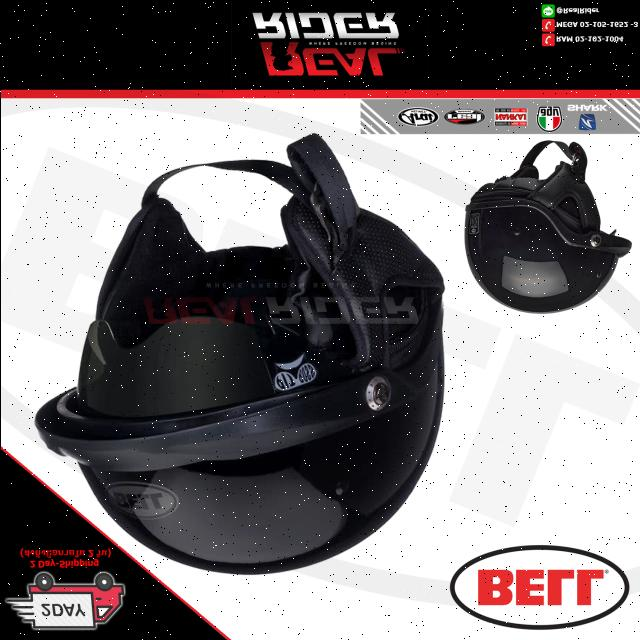Helmet: (35, 192, 442, 572), (464, 140, 630, 312)
